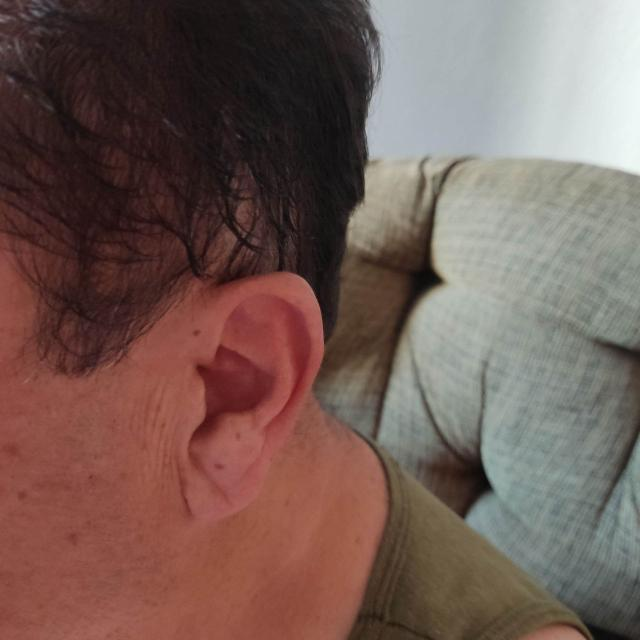ear: (180, 274, 322, 520)
